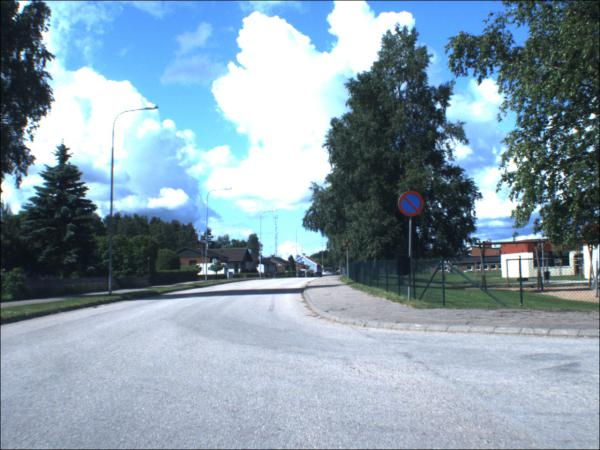NO_PARKING: (399, 192, 426, 219)
